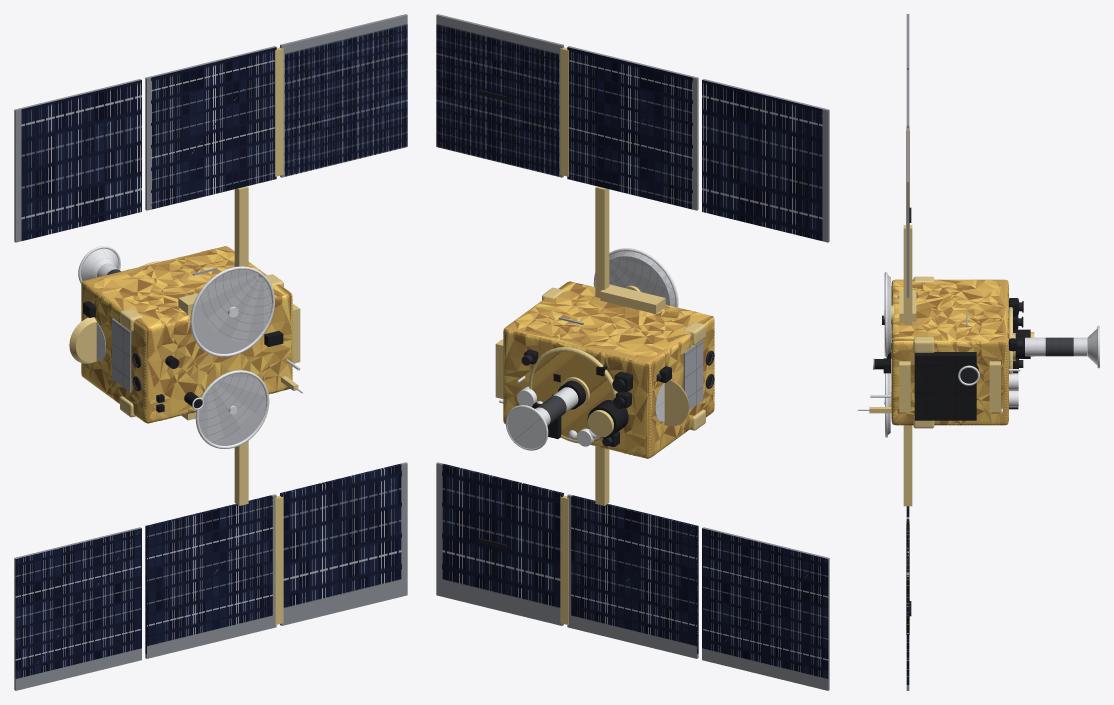
File: hayabusa2_spacecraft.glb
3 renders of one model, left to right at view 1: azimuth 30°, elevation 25°; view 2: azimuth 150°, elevation 25°; view 3: azimuth 270°, elevation 25°, orthographic. The views are drawn at different scales.
Visible parts, largest first — view 1: 本体 (Main Body), 太陽電池パドル +Y翼パネル2, 太陽電池パドル -Y翼パネル2, 太陽電池パドル +Y翼パネル1, 太陽電池パドル -Y翼パネル1, 太陽電池パドル -Y翼パネル3, 太陽電池パドル +Y翼パネル3, X帯高利得アンテナ (XHGA), Ka帯高利得アンテナ (KaHGA), -X面ラジエータ, パドルヨーク (+Y翼), パドルヒンジ (-Y翼) (+6 smaller); view 2: 太陽電池パドル +Y翼パネル2, 太陽電池パドル -Y翼パネル2, 太陽電池パドル +Y翼パネル1, 太陽電池パドル -Y翼パネル1, 本体 (Main Body), 太陽電池パドル +Y翼パネル3, 太陽電池パドル -Y翼パネル3, 下面中央リング構造, X帯高利得アンテナ (XHGA), パドルヨーク (+Y翼), サンプラホーン先端ベル, -X面ラジエータ (+7 smaller); view 3: 本体 (Main Body), イオンエンジン搭載パネル (IES), パドルヨーク (+Y翼), パドルヨーク (-Y翼), 太陽電池パドル +Y翼パネル3, 太陽電池パドル -Y翼パネル3, IPPU-A (イオンエンジン電源), IPPU-B (イオンエンジン電源), 中部ホーン (ベクトラン布・蛇腹), 上部ホーン (アルミ円筒).
Part boxes in pixels (x1,y1,x2,y2): 本体 (Main Body): [81, 246, 292, 423]; 太陽電池パドル +Y翼パネル2: [145, 46, 276, 210]; 太陽電池パドル -Y翼パネル2: [145, 494, 276, 658]; 太陽電池パドル +Y翼パネル1: [14, 79, 141, 242]; 太陽電池パドル -Y翼パネル1: [14, 527, 141, 690]; 太陽電池パドル -Y翼パネル3: [280, 462, 407, 625]; 太陽電池パドル +Y翼パネル3: [280, 14, 407, 177]; X帯高利得アンテナ (XHGA): [193, 269, 271, 353]; Ka帯高利得アンテナ (KaHGA): [199, 373, 266, 445]; -X面ラジエータ: [112, 318, 131, 391]; パドルヨーク (+Y翼): [234, 186, 248, 266]; パドルヒンジ (-Y翼): [275, 495, 283, 624]; 太陽電池パドル +Y翼パネル2: [567, 46, 698, 210]; 太陽電池パドル -Y翼パネル2: [567, 494, 698, 658]; 太陽電池パドル +Y翼パネル1: [702, 79, 829, 242]; 太陽電池パドル -Y翼パネル1: [702, 527, 829, 690]; 本体 (Main Body): [503, 281, 714, 458]; 太陽電池パドル +Y翼パネル3: [436, 14, 563, 177]; 太陽電池パドル -Y翼パネル3: [436, 462, 563, 625]; 下面中央リング構造: [532, 352, 613, 439]; X帯高利得アンテナ (XHGA): [609, 251, 675, 306]; パドルヨーク (+Y翼): [595, 186, 609, 297]; サンプラホーン先端ベル: [507, 407, 545, 448]; -X面ラジエータ: [683, 340, 703, 410]; 本体 (Main Body): [891, 279, 1008, 425]; イオンエンジン搭載パネル (IES): [914, 352, 976, 420]; パドルヨーク (+Y翼): [903, 225, 912, 324]; パドルヨーク (-Y翼): [903, 425, 912, 506]; 太陽電池パドル +Y翼パネル3: [906, 128, 909, 297]; 太陽電池パドル -Y翼パネル3: [906, 521, 909, 690]; IPPU-A (イオンエンジン電源): [899, 361, 910, 411]; IPPU-B (イオンエンジン電源): [989, 361, 1000, 411]; 中部ホーン (ベクトラン布・蛇腹): [1045, 337, 1073, 356]; 上部ホーン (アルミ円筒): [1025, 337, 1045, 356].
Size of the model in its own units: 4.23 by 5.98 by 2.57.
Materials: 10 (7 with a texture image).
